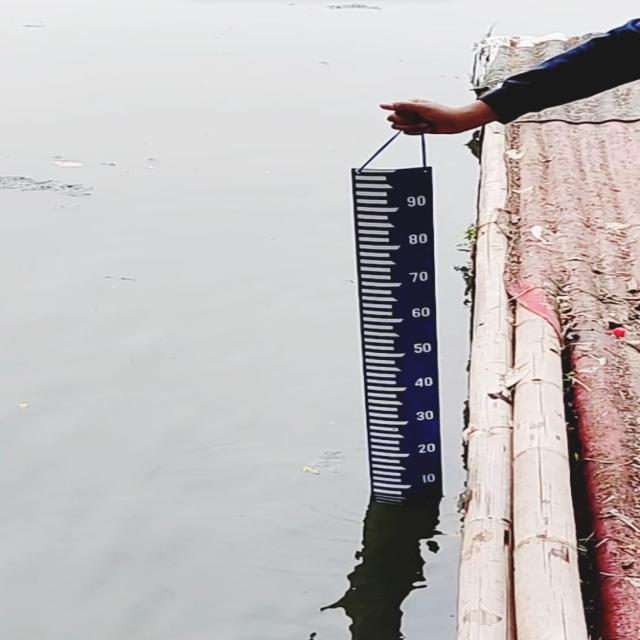ruler: (346, 156, 452, 509)
value: (402, 266, 434, 288), (406, 302, 436, 324), (404, 229, 434, 251), (401, 189, 431, 211), (406, 338, 436, 359), (409, 372, 438, 393), (411, 440, 440, 460), (411, 406, 438, 426), (416, 468, 440, 486)
